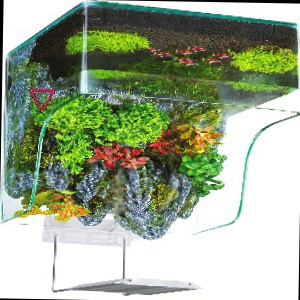triangle: (26, 86, 57, 112)
